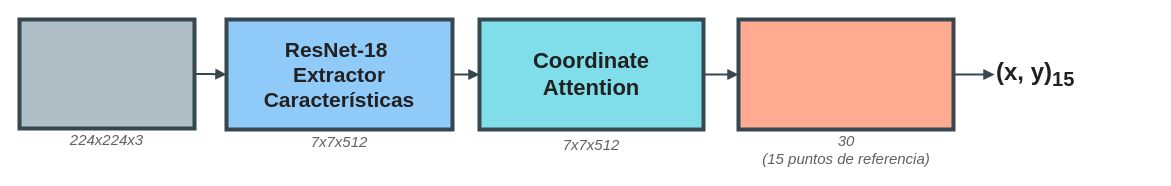
The diagram is 1171 pixels wide and 186 high, and some of its shapes have lost their labels. The centre of each missing label's shape, as x and y in pixels:
"Cabeza Regresión" belongs at point (845, 74).
"Imagen Entrada" belongs at point (106, 73).
